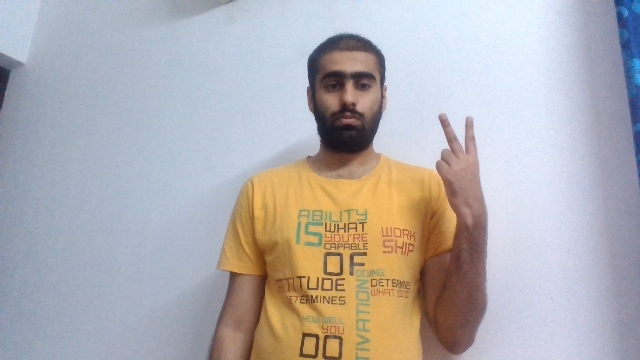scissors: (434, 112, 489, 218)
